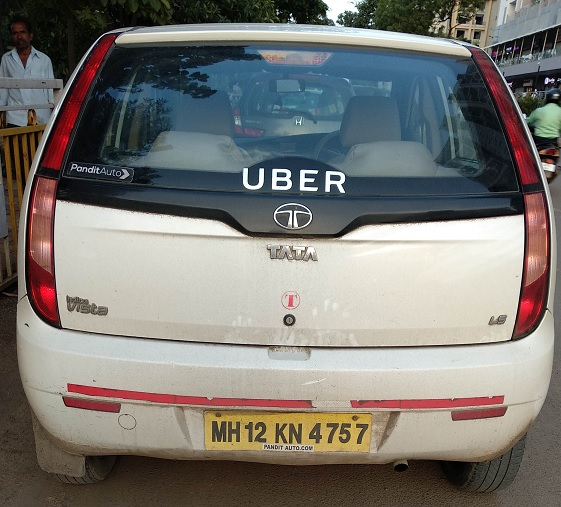licenseplate: (202, 406, 376, 456)
